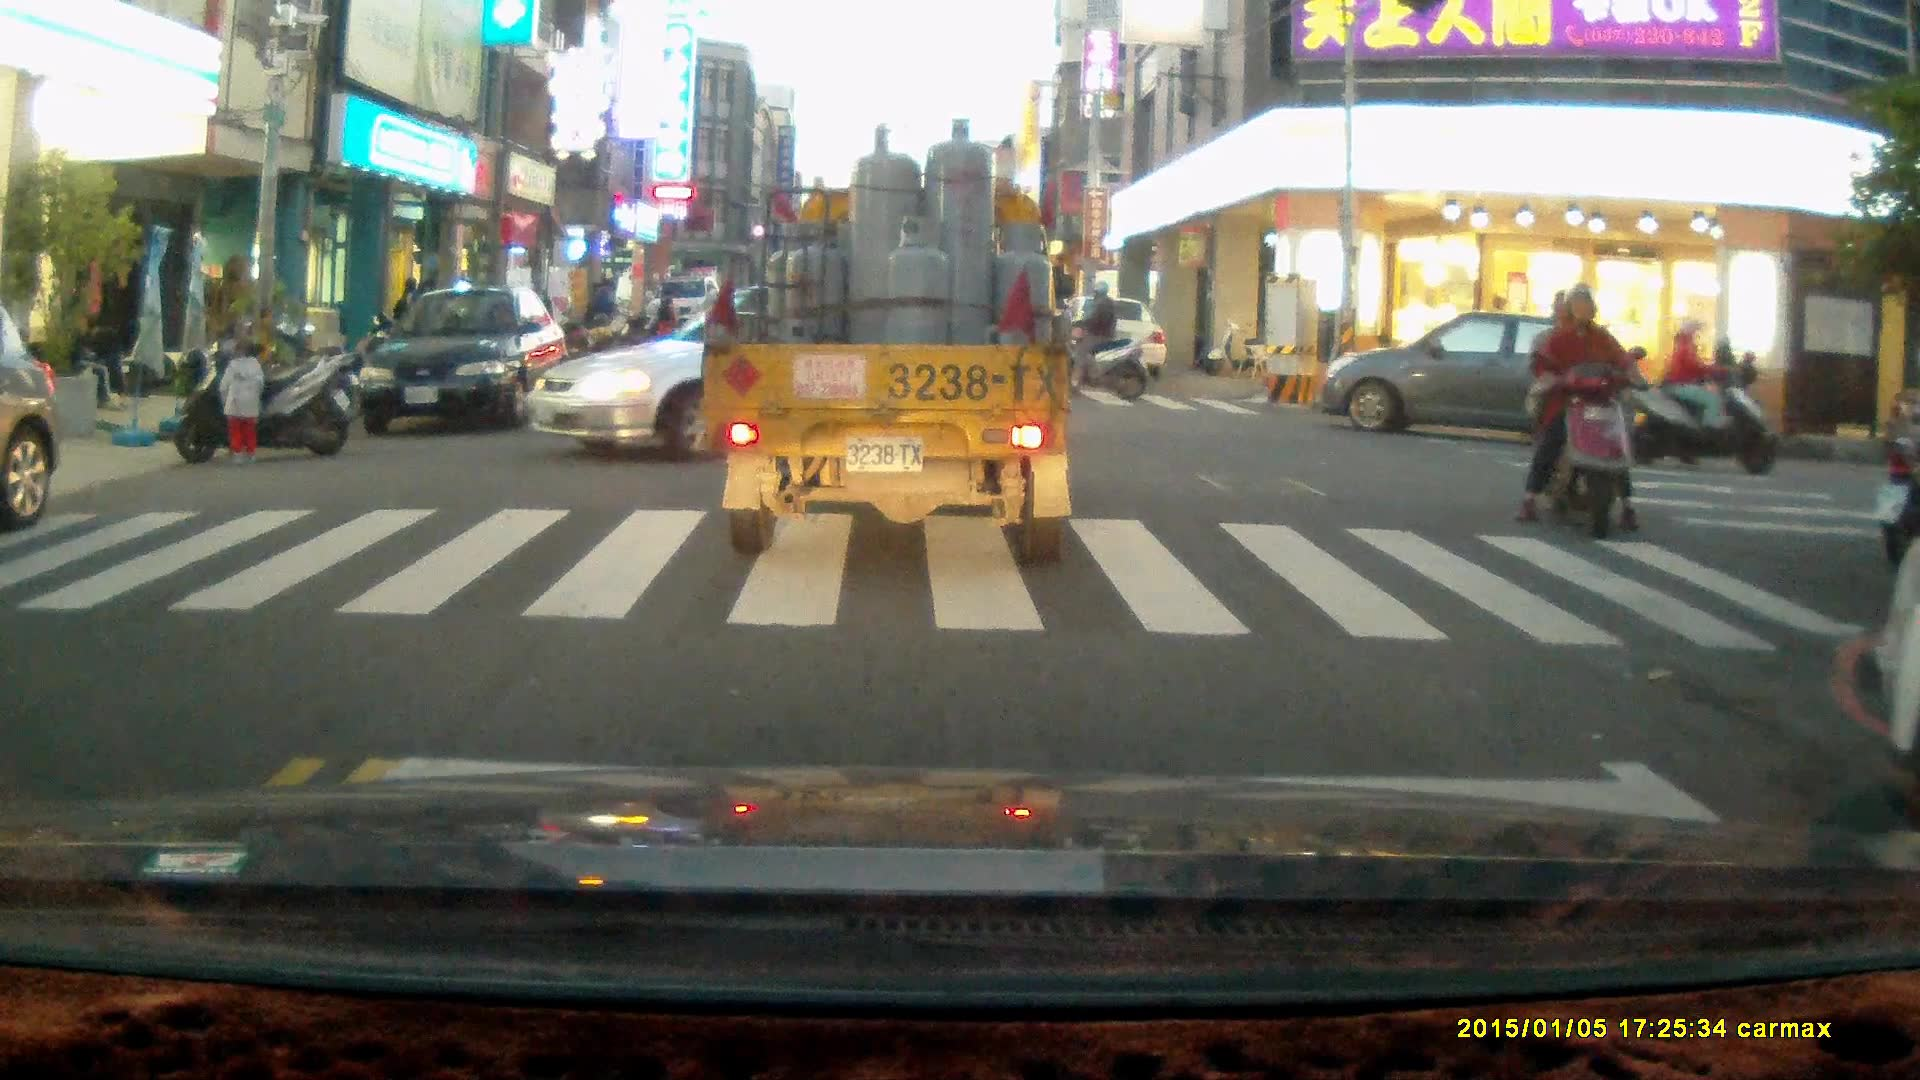pedestrian: (213, 337, 267, 465), (592, 277, 619, 339), (654, 284, 679, 342)
rider: (1512, 286, 1638, 540), (1631, 314, 1775, 473), (1053, 281, 1148, 402)
vehicle: (704, 118, 1074, 563), (521, 282, 1035, 454), (1308, 310, 1634, 465), (349, 286, 570, 438), (1067, 297, 1169, 383)
